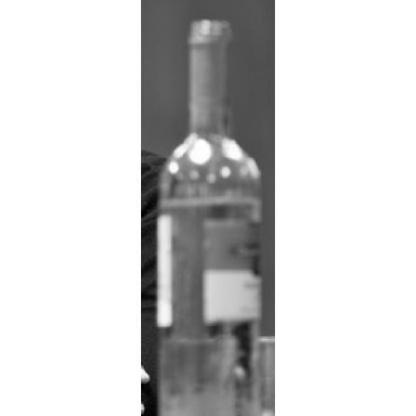Can: (158, 21, 262, 416)
